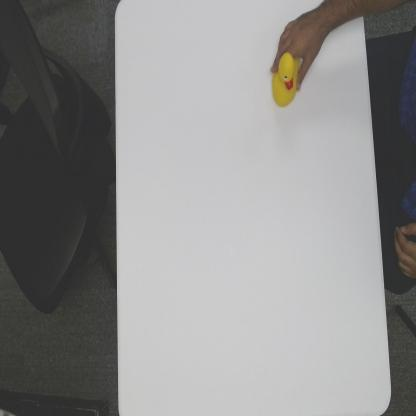Arm: (320, 0, 367, 30)
Duck: (270, 52, 300, 109)
Hand: (269, 9, 325, 91)
